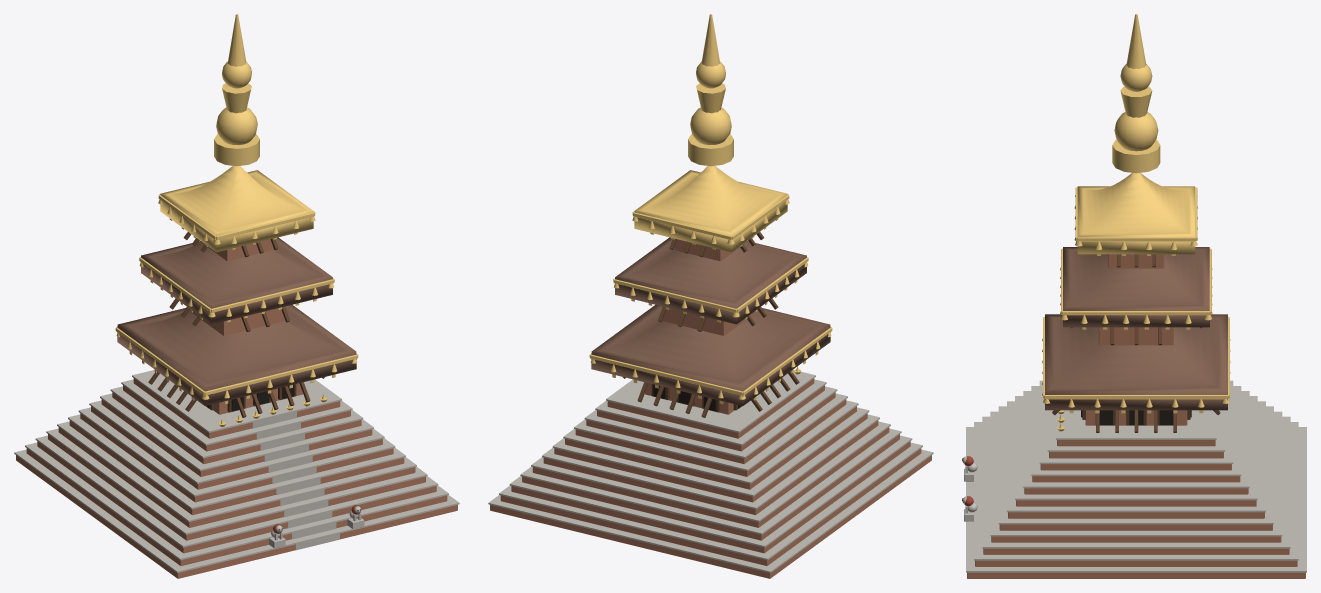
The model's file is taleju.glb.
3 renders of one model, left to right at view 1: azimuth 30°, elevation 25°; view 2: azimuth 150°, elevation 25°; view 3: azimuth 270°, elevation 25°, orthographic. The views are drawn at different scales.
Visible parts, largest first — view 1: taleju; view 2: taleju; view 3: taleju.
Part boxes in pixels (bbox=[...]): taleju: bbox=[14, 14, 459, 578]; taleju: bbox=[488, 14, 933, 578]; taleju: bbox=[962, 14, 1306, 578].
Size of the model in its own units: 1.01 by 1.61 by 1.02.
